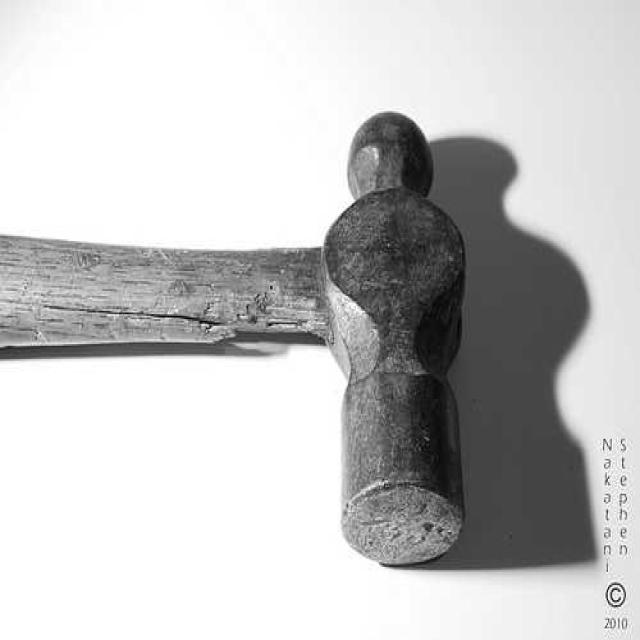hammer: (0, 111, 467, 566)
